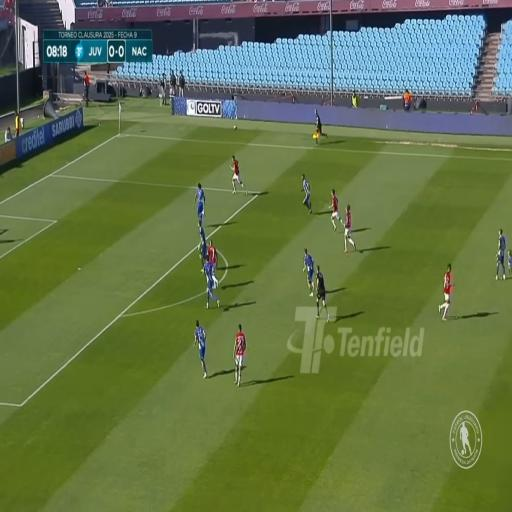Ball: (233, 122, 237, 132)
Player: (232, 325, 248, 385), (194, 322, 210, 378), (342, 202, 356, 256), (228, 157, 246, 198), (204, 253, 216, 309), (439, 269, 452, 315), (304, 245, 315, 298), (197, 218, 208, 266), (206, 244, 217, 288), (497, 229, 506, 282), (196, 183, 207, 224), (302, 172, 312, 214), (330, 190, 340, 228)
Referee: (316, 267, 328, 325), (314, 108, 326, 143)
